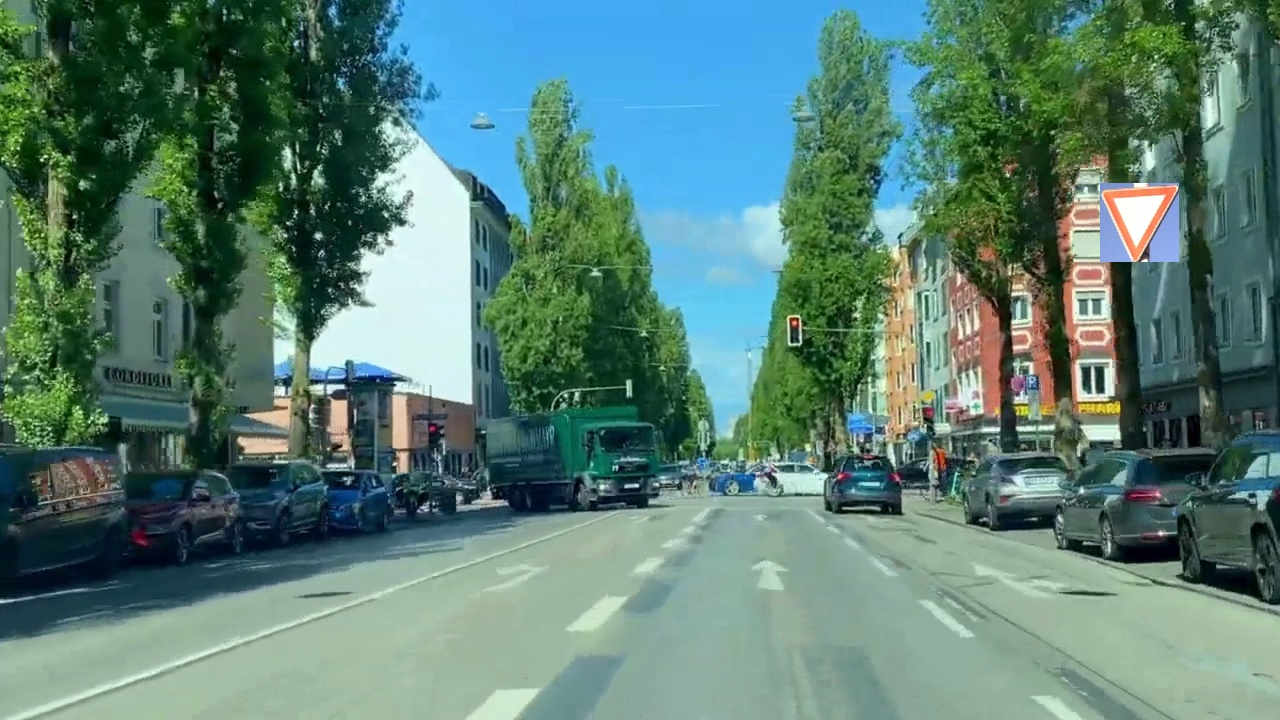Yield: (1100, 183, 1179, 262)
